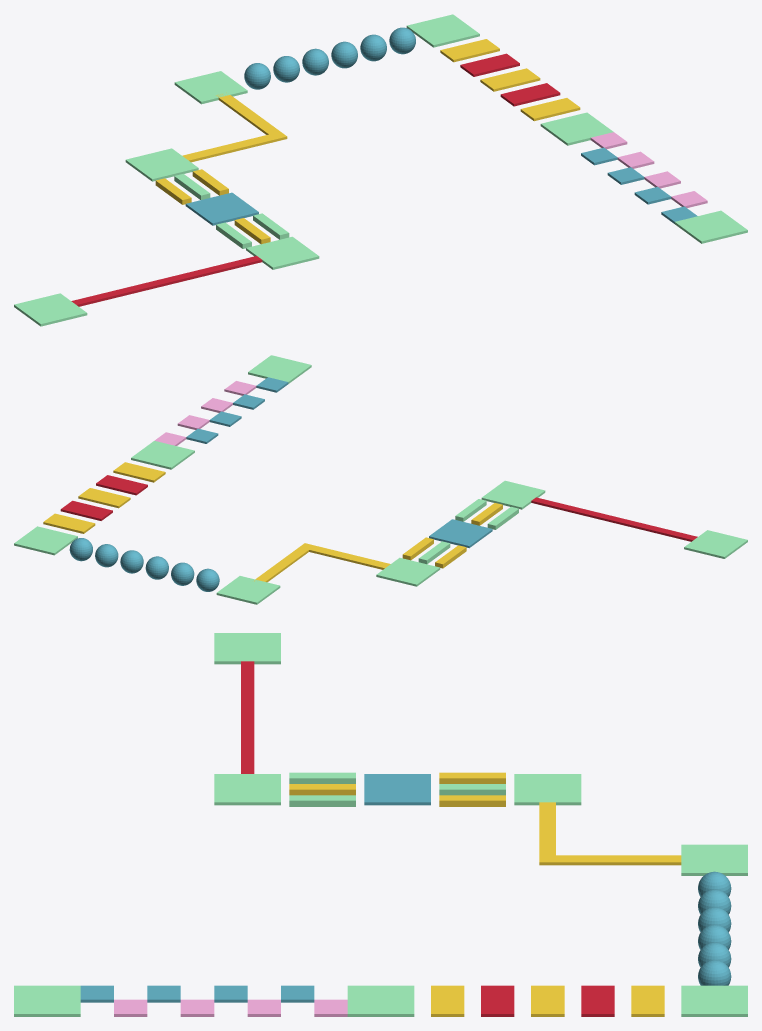
File: map.glb
3 views of the same model, one above another, from view 1: azimuth 30°, elevation 25°; view 2: azimuth 150°, elevation 25°; view 3: azimuth 270°, elevation 25° (orthographic). The views are drawn at different scales.
Visible parts, largest first — view 1: box_4, box_6, start, checkpoint_6, checkpoint_2, box_54, checkpoint_4, checkpoint_5, checkpoint_3, checkpoint_1, box_23, box_21 (+9 smaller); view 2: box_4, box_6, checkpoint_4, checkpoint_3, checkpoint_6, checkpoint_1, checkpoint_2, box_54, checkpoint_5, start, box_21, box_23 (+9 smaller); view 3: box_4, checkpoint_1, start, checkpoint_2, checkpoint_5, box_54, checkpoint_4, checkpoint_6, checkpoint_3, box_6, box_23, box_24 (+11 smaller).
Boxes of the visible parts, x1=… form: box_4: x1=182, y1=92, x2=287, y2=162; box_6: x1=71, y1=256, x2=262, y2=306; start: x1=674, y1=210, x2=747, y2=243; checkpoint_6: x1=14, y1=293, x2=87, y2=326; checkpoint_2: x1=406, y1=14, x2=479, y2=47; box_54: x1=185, y1=192, x2=258, y2=225; checkpoint_4: x1=125, y1=148, x2=198, y2=181; checkpoint_5: x1=246, y1=236, x2=319, y2=269; checkpoint_3: x1=174, y1=71, x2=247, y2=104; checkpoint_1: x1=540, y1=112, x2=613, y2=145; box_23: x1=480, y1=68, x2=540, y2=91; box_21: x1=520, y1=98, x2=580, y2=121; box_4: x1=254, y1=543, x2=390, y2=582; box_6: x1=531, y1=497, x2=697, y2=541; checkpoint_4: x1=376, y1=557, x2=440, y2=586; checkpoint_3: x1=216, y1=576, x2=280, y2=604; checkpoint_6: x1=684, y1=530, x2=747, y2=558; checkpoint_1: x1=131, y1=441, x2=194, y2=469; checkpoint_2: x1=14, y1=526, x2=77, y2=555; box_54: x1=429, y1=519, x2=492, y2=548; checkpoint_5: x1=481, y1=480, x2=545, y2=509; start: x1=248, y1=355, x2=311, y2=383; box_21: x1=113, y1=462, x2=165, y2=482; box_23: x1=78, y1=488, x2=130, y2=508; box_4: x1=539, y1=802, x2=681, y2=865; checkpoint_1: x1=347, y1=985, x2=414, y2=1016; start: x1=14, y1=985, x2=80, y2=1016; checkpoint_2: x1=681, y1=985, x2=747, y2=1016; checkpoint_5: x1=214, y1=774, x2=280, y2=805; box_54: x1=364, y1=774, x2=430, y2=805; checkpoint_4: x1=514, y1=774, x2=581, y2=805; checkpoint_6: x1=214, y1=633, x2=280, y2=664; checkpoint_3: x1=681, y1=844, x2=747, y2=875; box_6: x1=241, y1=661, x2=254, y2=773; box_23: x1=531, y1=985, x2=564, y2=1016; box_24: x1=581, y1=985, x2=614, y2=1016.
Bounding box in the file's own units: 27 × 1 × 22.
